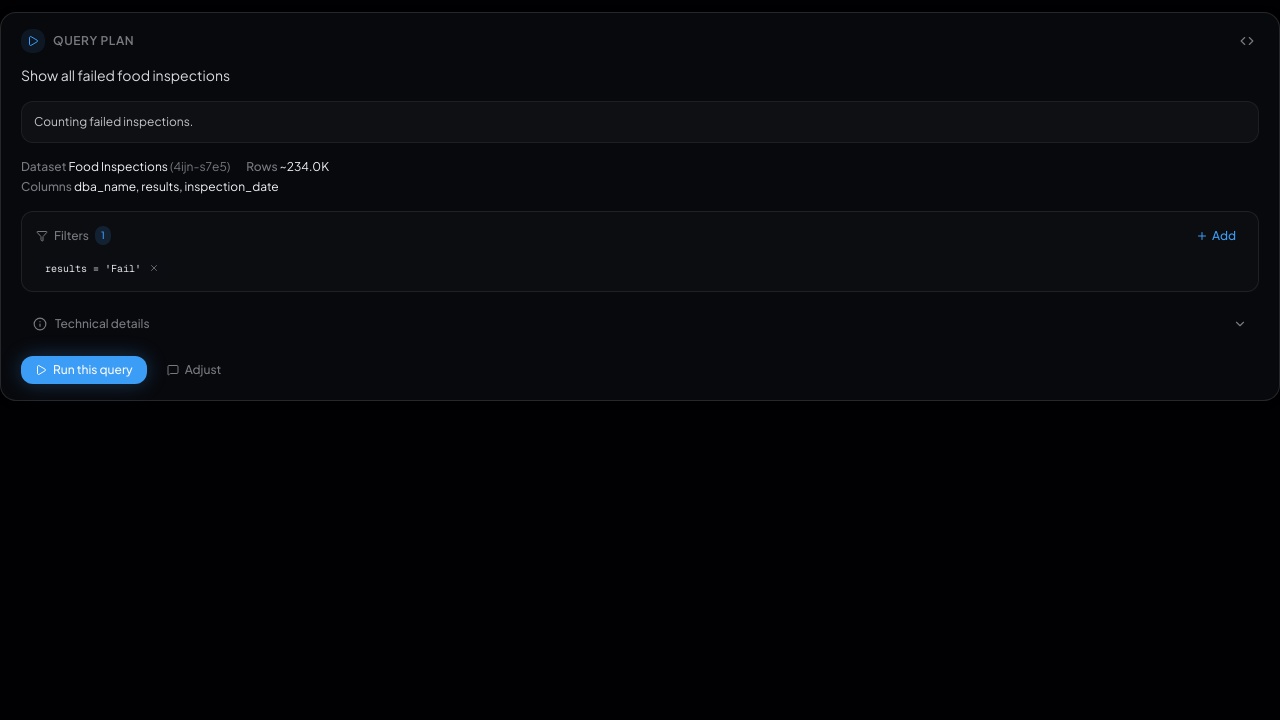
Test: QueryConfirmationCard methodology › renders technical details toggle when technicalNotes provided
The width and height of the screenshot is (1280, 720).
Expected: the text "Direct match for pass" is not shown
# Click toggle to reveal
Step 1. Click the button "Technical details" → point(102, 323), box top-left (21, 308), bottom-right (1259, 340)
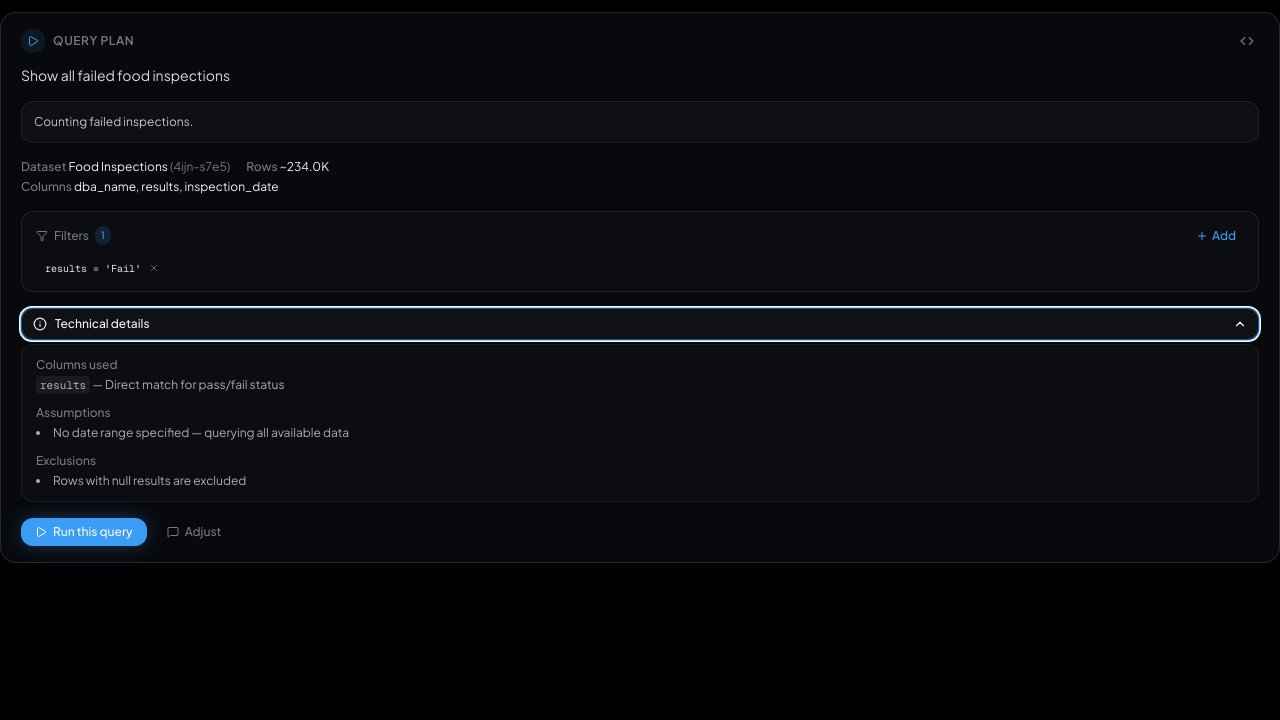
Expected: the text "results — Direct match for pass/fail status" is shown, top-left (36, 376), bottom-right (285, 394)
Expected: the list item "No date range specified — querying all available data" is shown, top-left (53, 424), bottom-right (349, 440)
Expected: the list item "Rows with null results are excluded" is shown, top-left (53, 472), bottom-right (246, 488)
